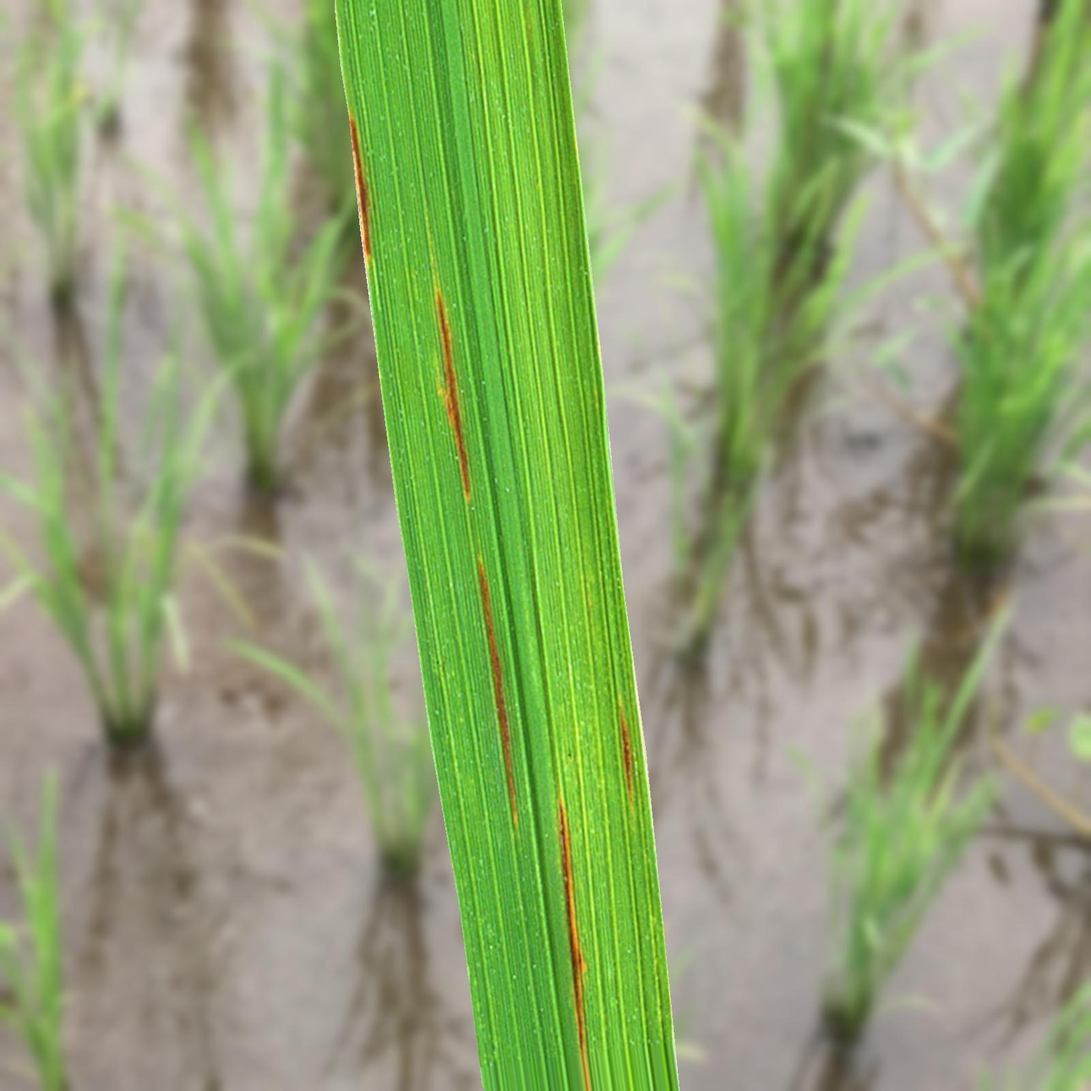LEAF: (335, 0, 679, 1090)
NBS: (479, 556, 517, 828), (558, 798, 591, 1090), (436, 290, 470, 501), (350, 114, 371, 262), (618, 698, 635, 809)
